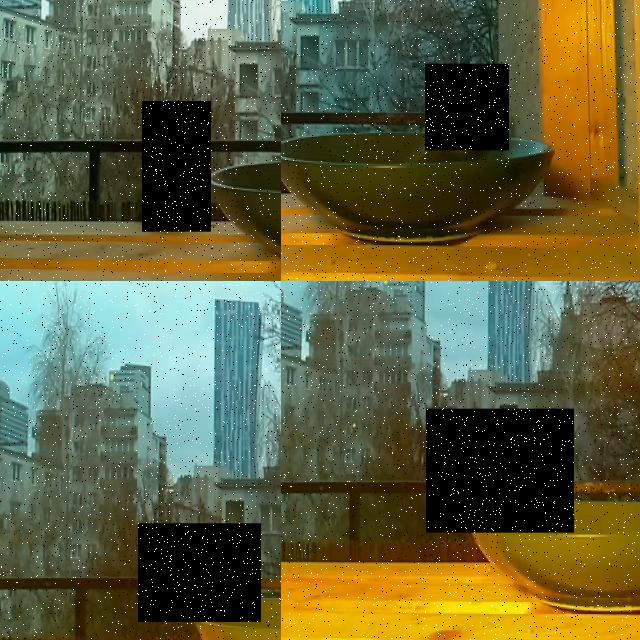Bogatka: (426, 408, 574, 532)
Modraszka: (138, 523, 261, 622), (425, 64, 509, 150)
Wrobel: (142, 101, 211, 232)
